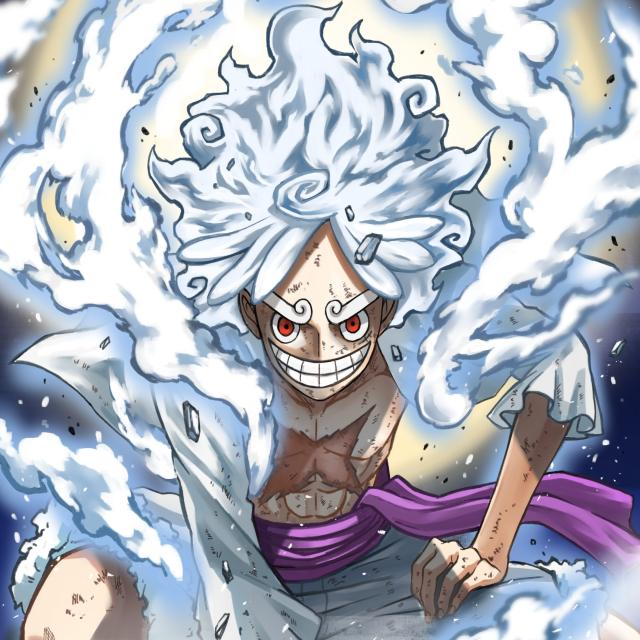luffy: (91, 66, 602, 635)
